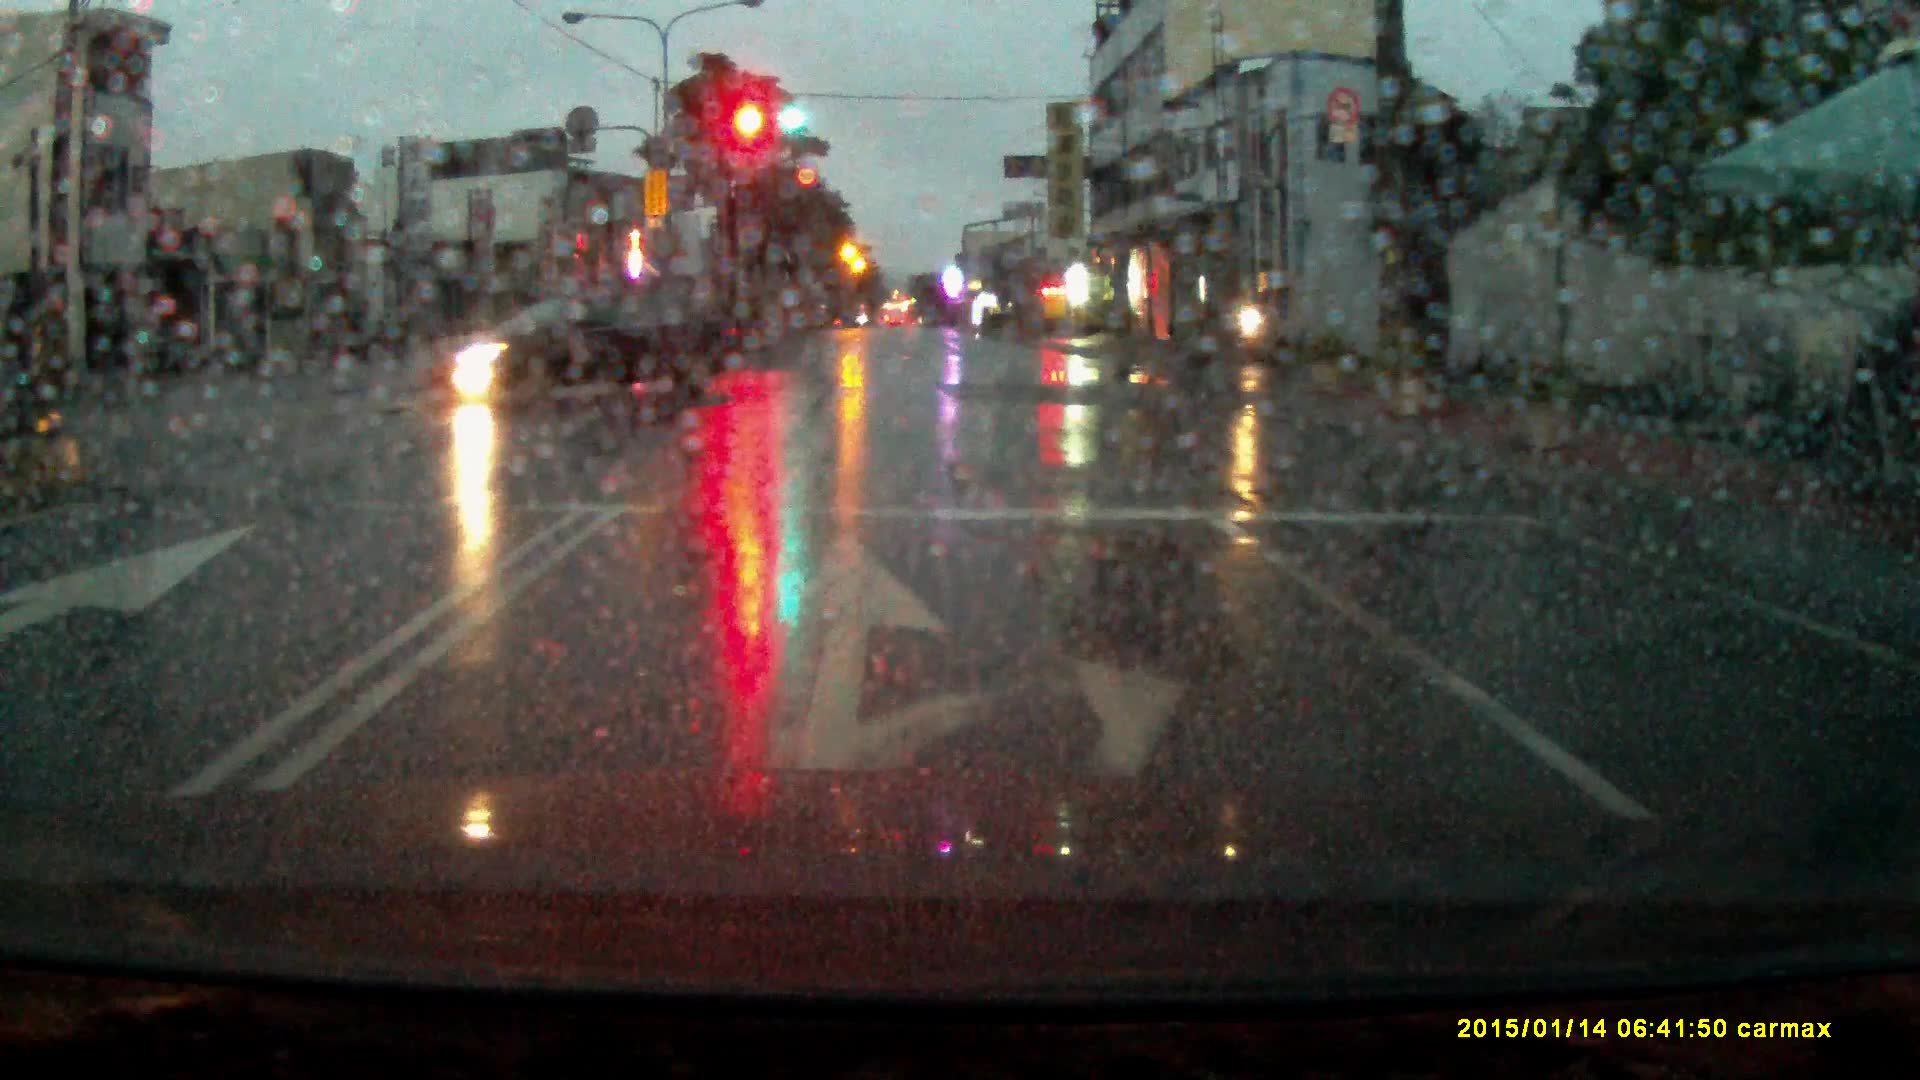rider: (1218, 276, 1299, 374)
vehicle: (413, 289, 742, 403)
